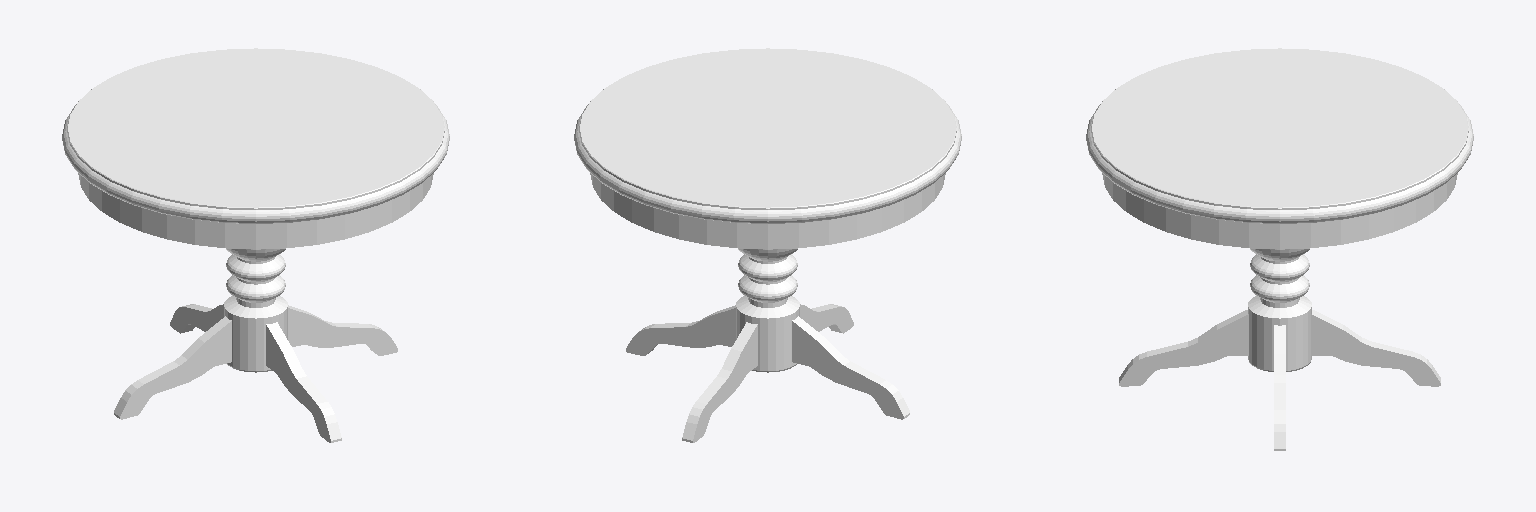
File: small_table.obj
3 renders of one model, left to right at view 1: azimuth 30°, elevation 25°; view 2: azimuth 150°, elevation 25°; view 3: azimuth 270°, elevation 25°, orthographic.
Parts seen in each view (by area): view 1: pCylinder6_Mesh; view 2: pCylinder6_Mesh; view 3: pCylinder6_Mesh.
Part boxes in pixels (x1,y1,x2,y2): pCylinder6_Mesh: (62,48,449,442); pCylinder6_Mesh: (574,48,961,442); pCylinder6_Mesh: (1086,48,1473,450).
Size of the model in its own units: 3.39 by 2.46 by 3.39.